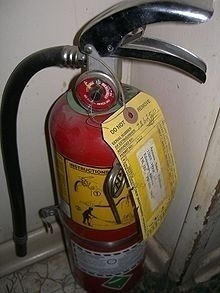fire_extinguisher: (0, 0, 214, 293)
